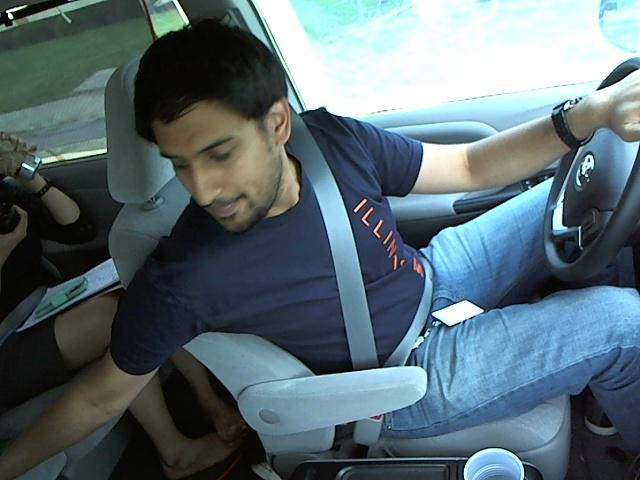c5 - Reaching Behind: (119, 20, 634, 404)
